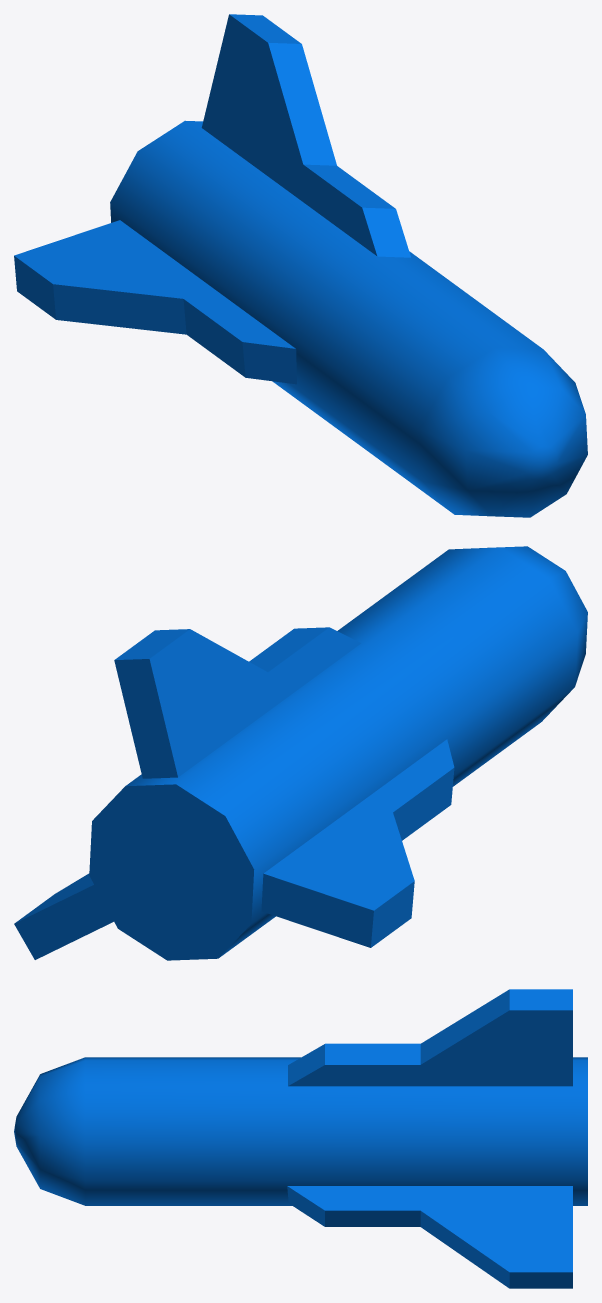
Rendered from MechProjectile.fbx.
3 renders of one model, top to bottom at view 1: azimuth 30°, elevation 25°; view 2: azimuth 150°, elevation 25°; view 3: azimuth 270°, elevation 25°, orthographic. The views are drawn at different scales.
Visible parts, largest first — view 1: polySurface4; view 2: polySurface4; view 3: polySurface4.
Boxes of the visible parts, x1,y1,x2,y2 form: polySurface4: (14, 14, 587, 517); polySurface4: (14, 546, 587, 960); polySurface4: (14, 989, 587, 1288).
Size of the model in its own units: 26.63 by 23.28 by 47.33.
